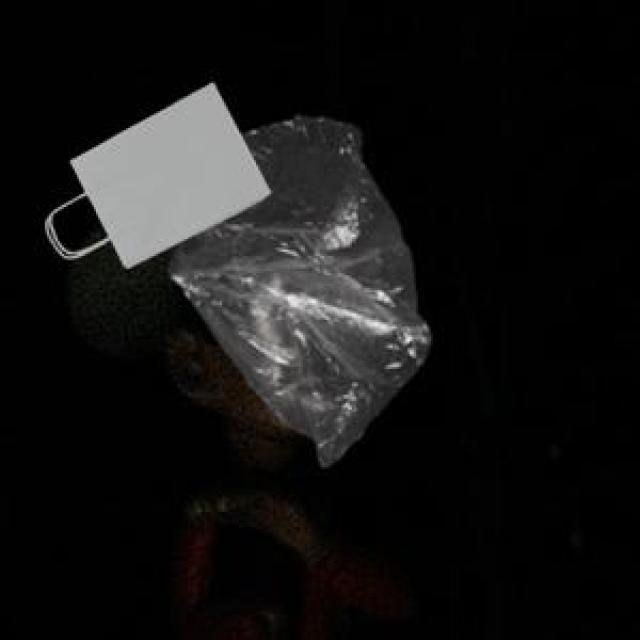paper: (60, 79, 267, 262)
